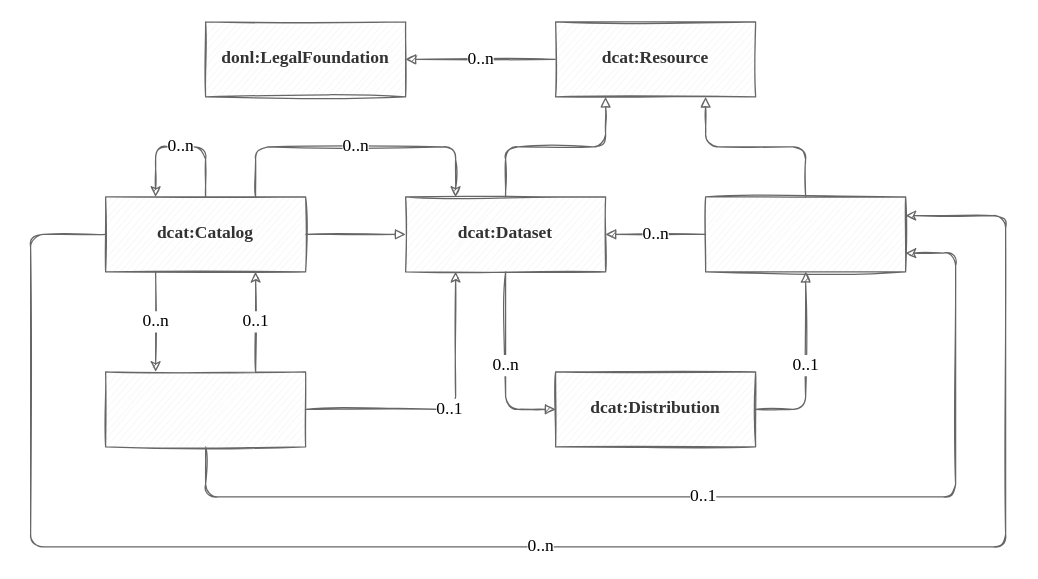
This 1038x579 diagram has some shape labels left out. Each missing label, with the centre of its shape:
dcat:CatalogRecord: pixel 205 409
dcat:DataService: pixel 805 234
